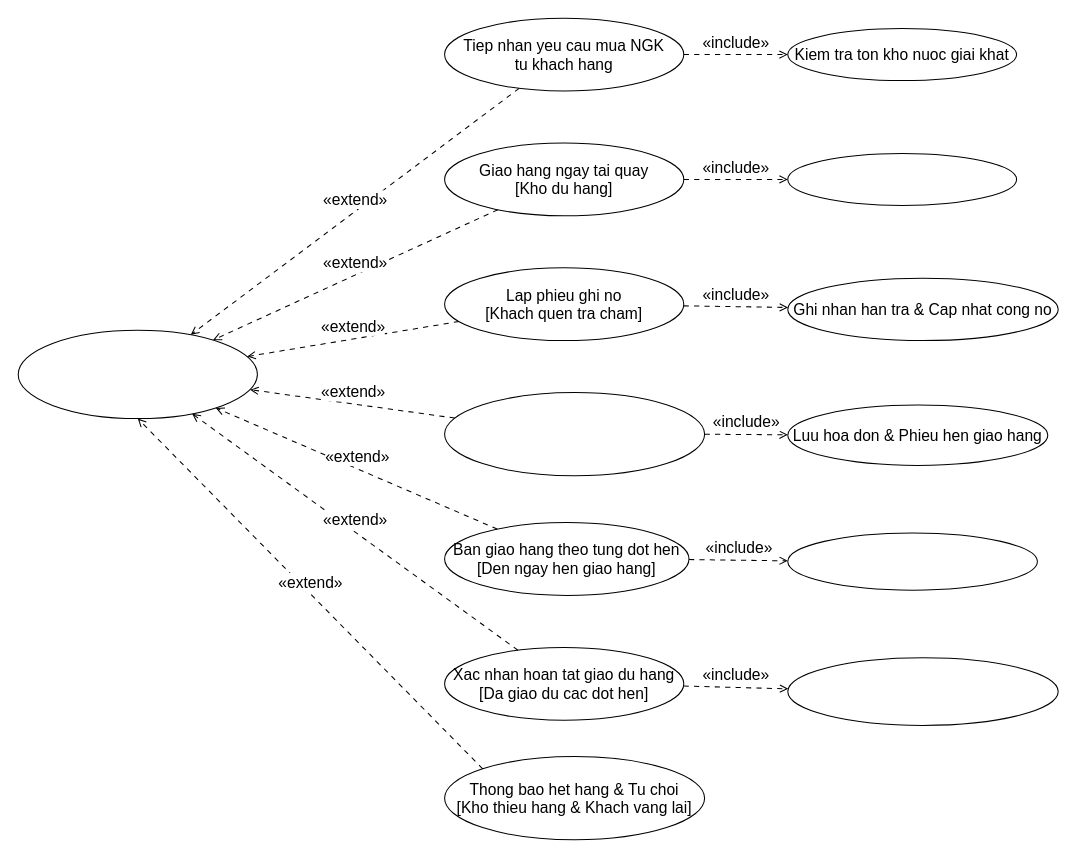
This 1076x858 diagram has some shape labels left out. Each missing label, with the centre of its shape:
"Ban nuoc giai khat (from Use Case View)" goes at pixel 137 374.
"Cap nhat trang thai phieu hen" goes at pixel 912 561.
"Dong hoa don & Quyet toan cong no" goes at pixel 922 691.
"Lap hoa don & Giam ton kho" goes at pixel 902 178.
"Lap phieu hen giao hang nhieu dot [Kho thieu hang & Khach quen]" goes at pixel 574 434.
